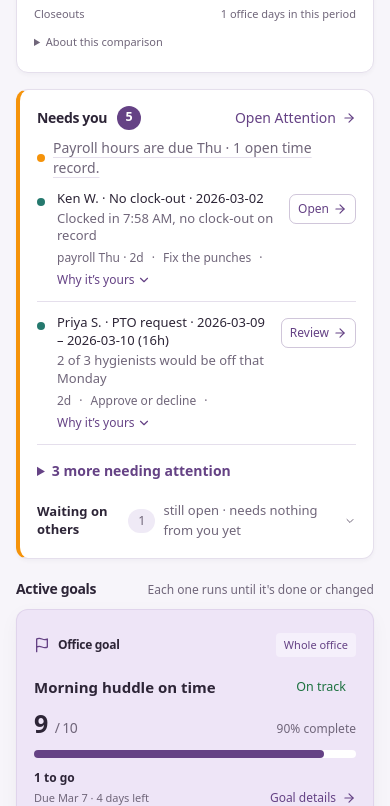
Test case: needs you › lists every Attention item in consequence order, with the date, the next step, why, and one navigation action each
This screenshot has width=390, height=806.
(page scrolled)
Expected: the text "payroll Thu · 2d" is shown, [57, 249, 144, 267]
Expected: the text "Fix the punches" is shown, [163, 249, 251, 267]
Click the button "Why it’s yours" below "Approve or decline" at (104, 423), box [57, 414, 151, 432]
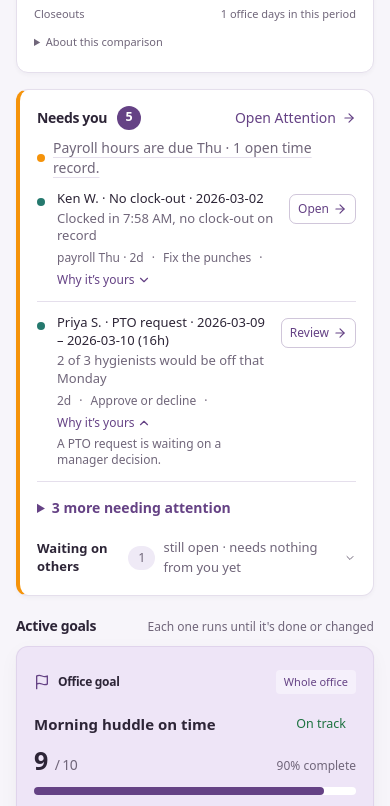
Expected: the text "A PTO request is waiting on a manager decision." is shown, [57, 435, 221, 468]
